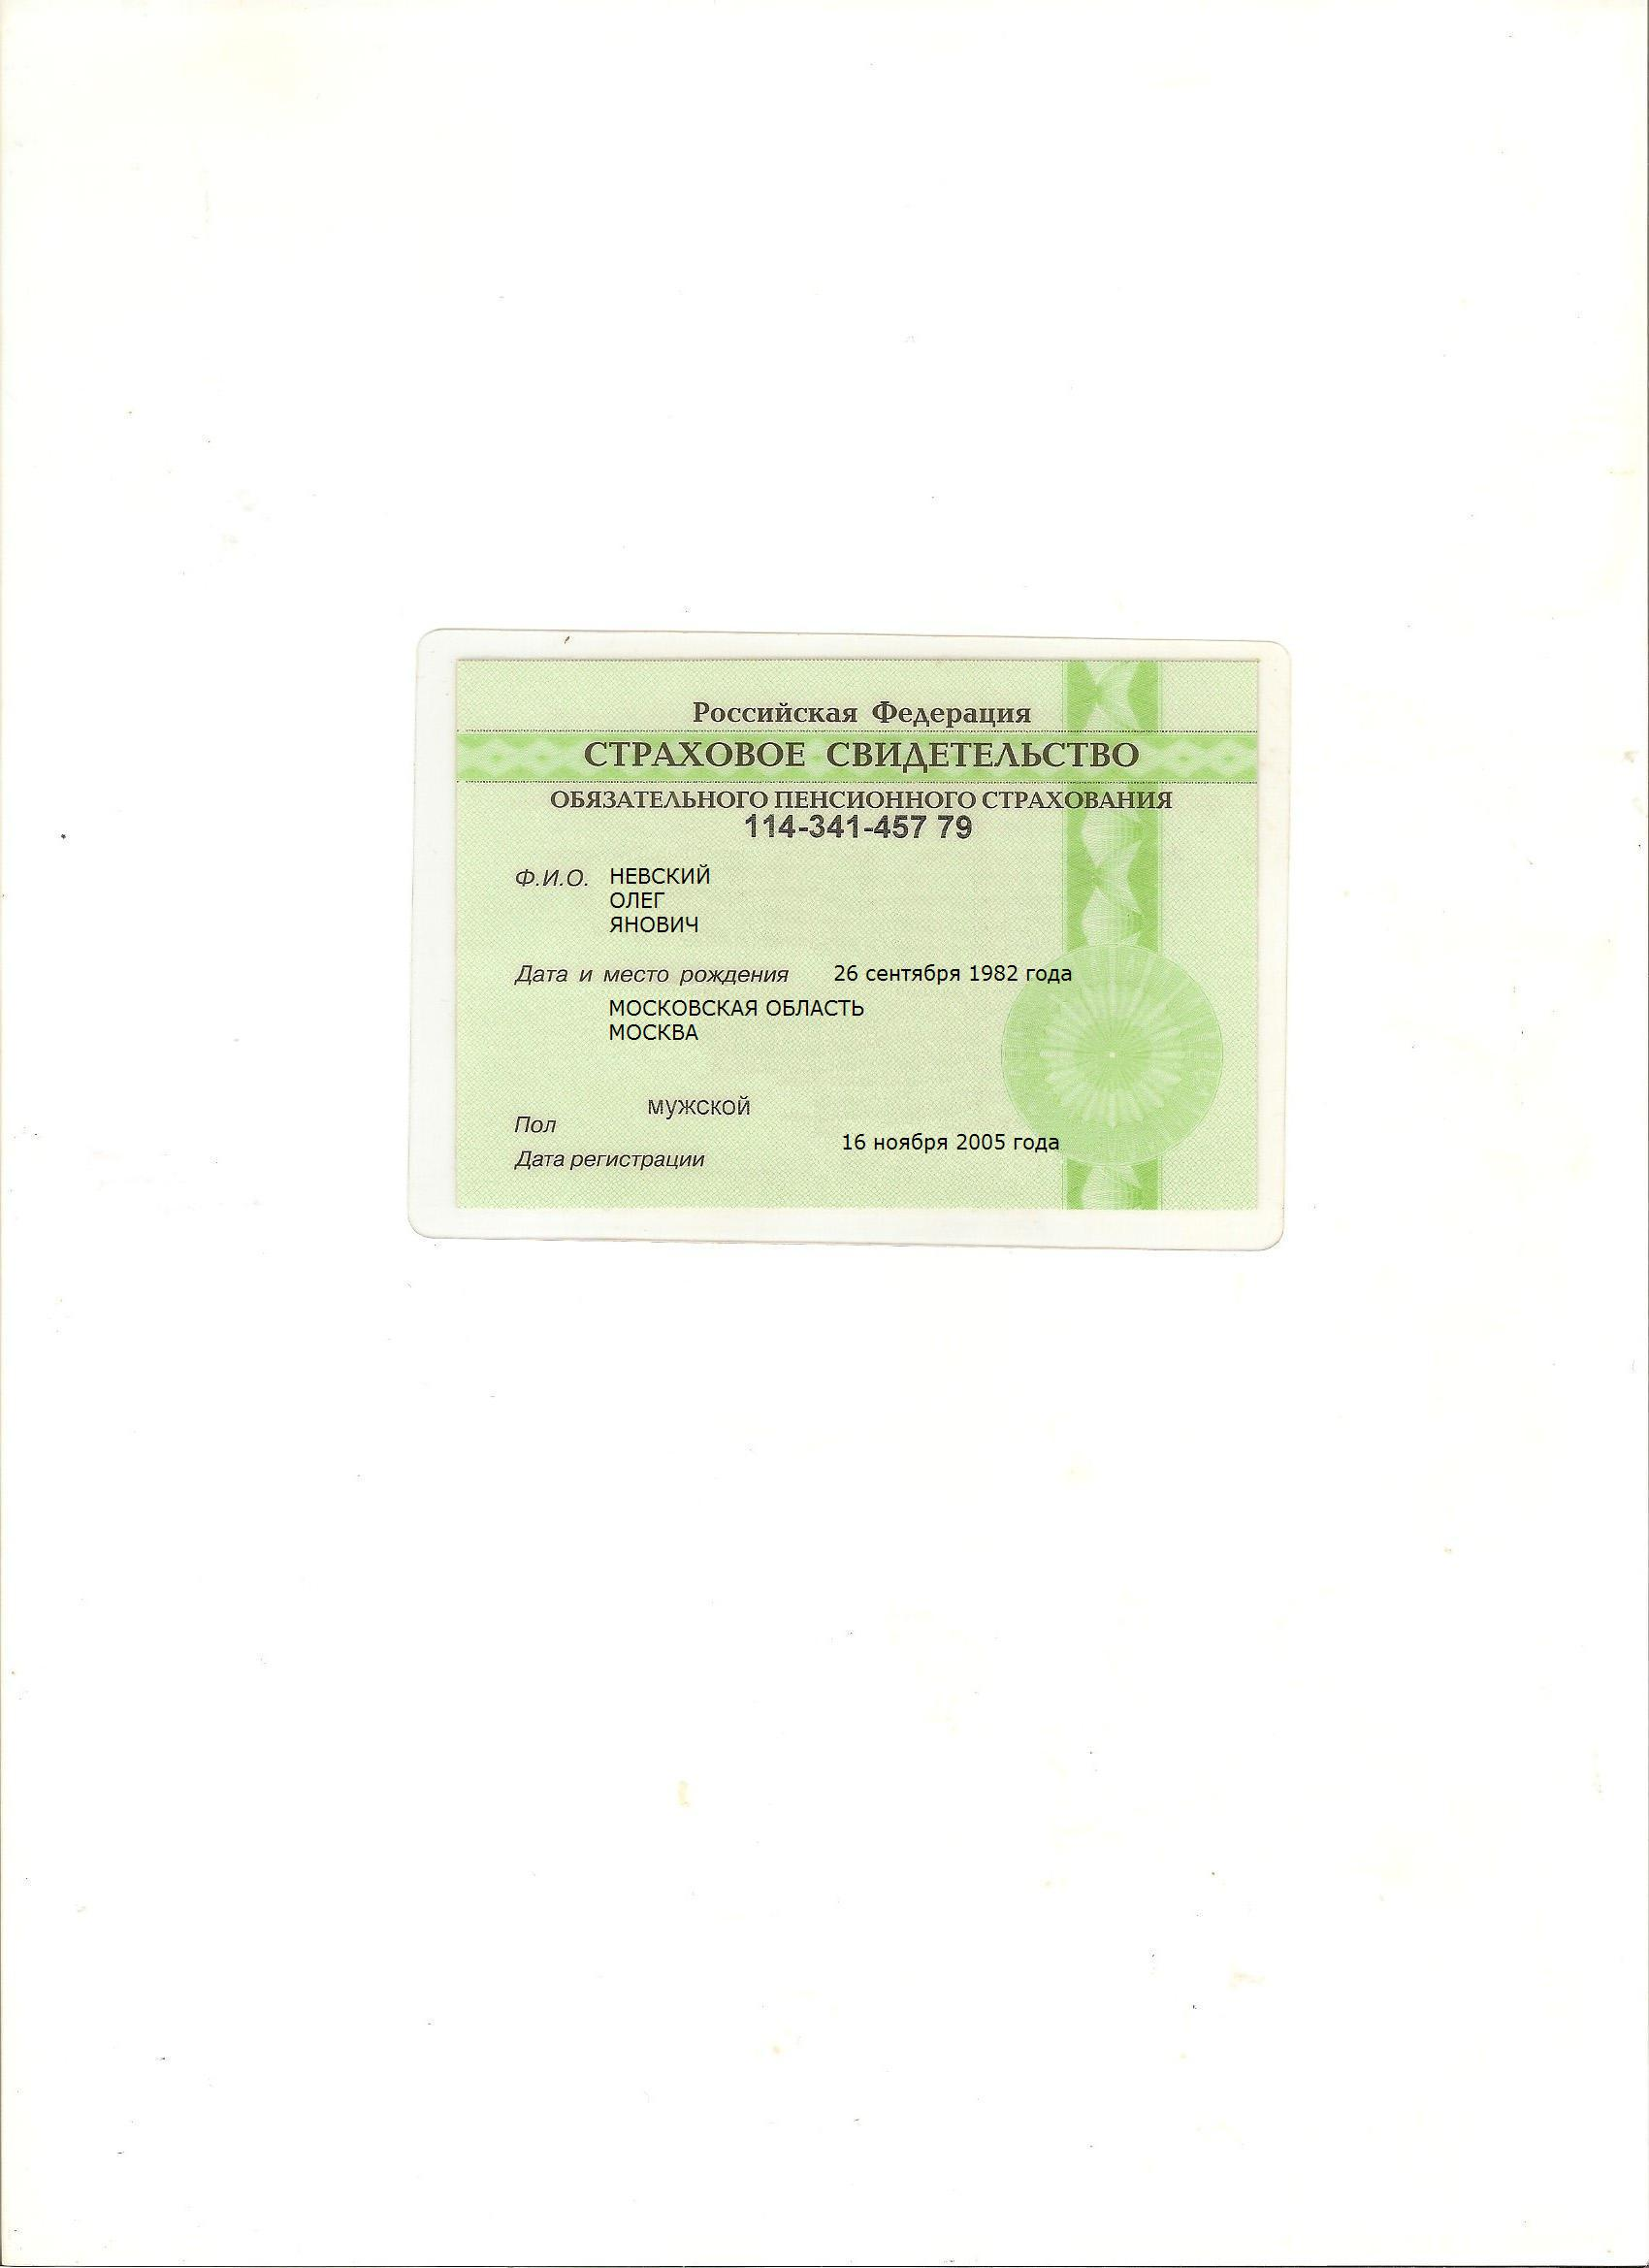text: (732, 810, 986, 847), (831, 958, 1075, 988), (832, 1127, 1066, 1155), (605, 995, 866, 1018), (605, 863, 718, 889), (646, 1092, 753, 1118), (605, 912, 704, 937), (609, 1021, 704, 1044), (609, 887, 671, 912)
